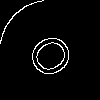O: (25, 25, 84, 82)
